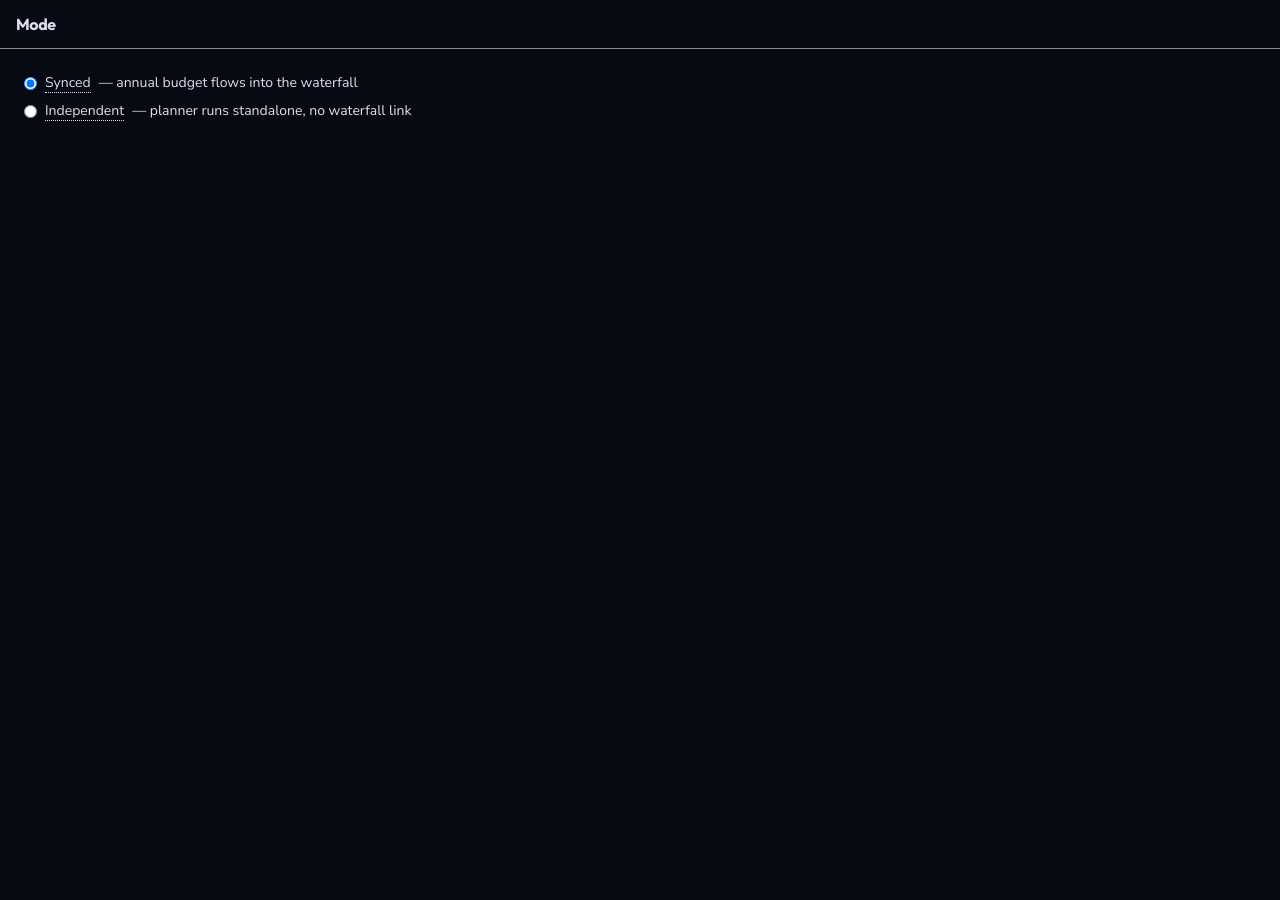
Test: ConfigPlannerModePanel › opens confirm dialog before switching to independent
This screenshot has width=1280, height=900.
Click the radio button labelled "Independent — planner runs standalone, no waterfall link". click: (30, 111)
box: [24,104,37,118]
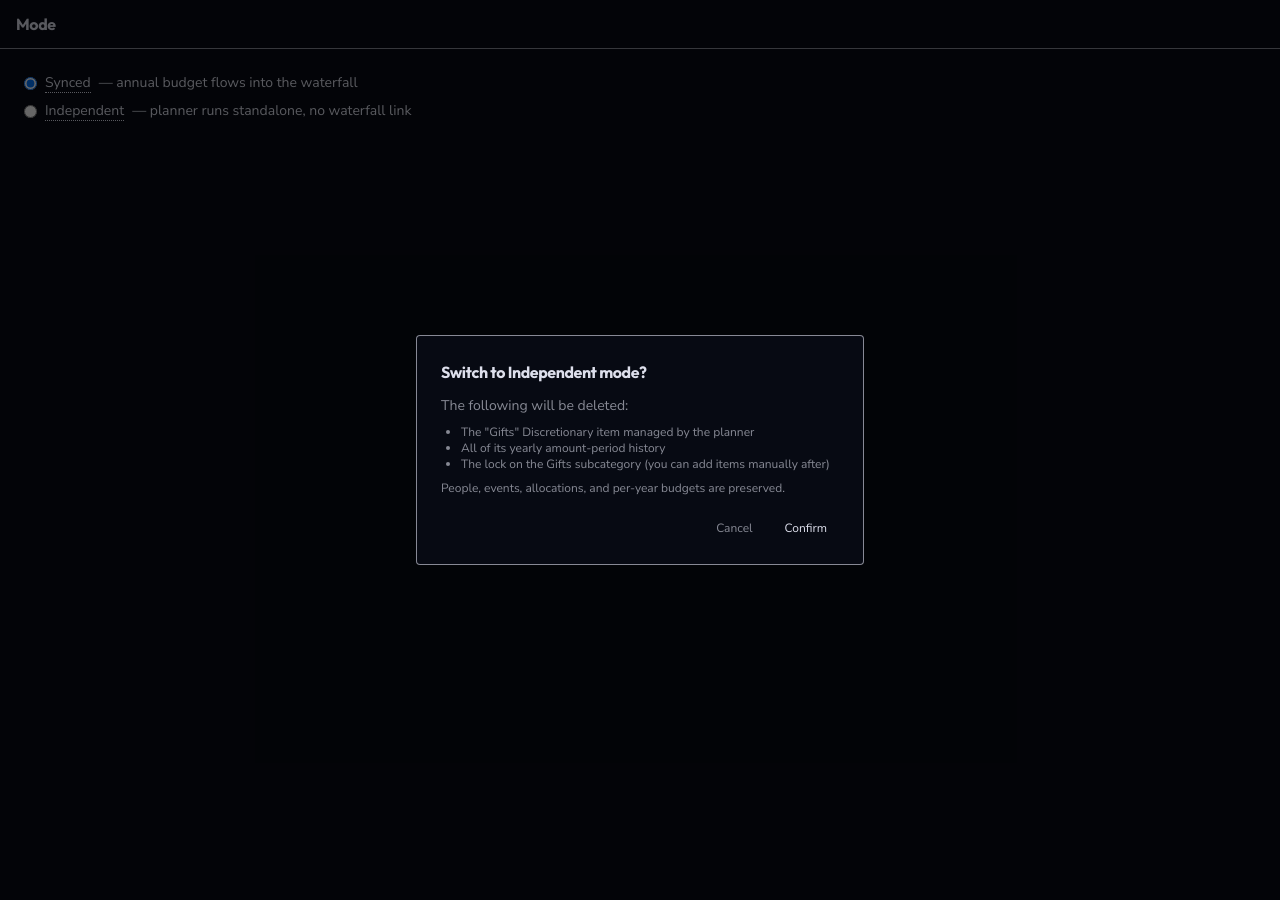
Expected: the text "The following will be deleted:" is shown, [441,396,628,415]
